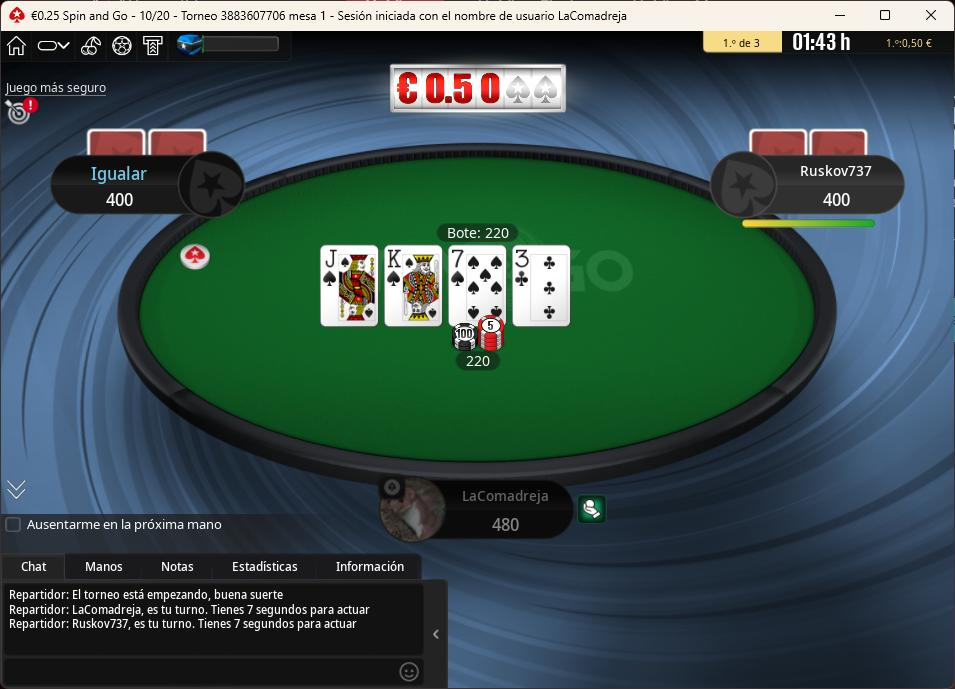Dealer: (180, 242, 214, 273)
HiddenCards: (84, 129, 213, 159), (745, 129, 868, 158)
Player: (716, 155, 910, 220), (50, 152, 245, 214)
PlayerChips: (822, 189, 856, 212)
Pot: (435, 223, 518, 241)
PrincipalPlayer: (372, 473, 570, 541)
PrincipalPlayerChips: (485, 509, 526, 536)
ShowedCards: (322, 248, 574, 332)
ShowedCards1: (319, 245, 384, 331)
ShowedCards2: (383, 246, 446, 330)
ShowedCards3: (446, 246, 510, 329)
ShowedCards4: (511, 241, 572, 327)
SmallBigBlind: (129, 1, 182, 27)
TablePot: (441, 315, 522, 382)
